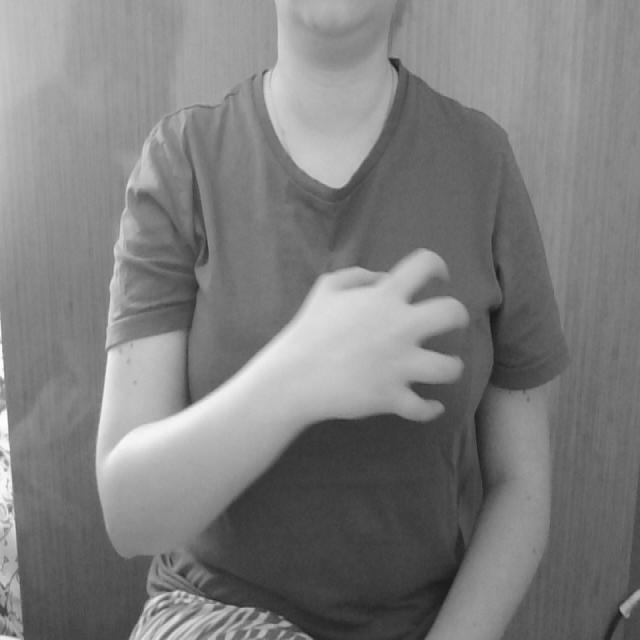Anne: (194, 231, 499, 441)
